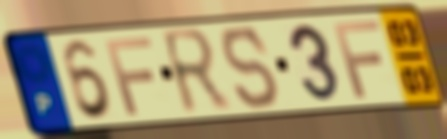3: (284, 21, 347, 104)
6: (62, 36, 113, 123)
F: (329, 17, 385, 101), (101, 34, 156, 118)
R: (157, 25, 236, 120)
S: (219, 23, 282, 112)
